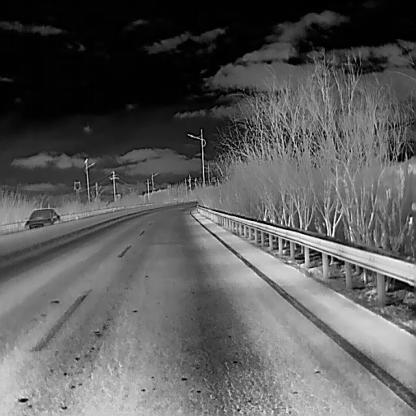car: (24, 208, 60, 229)
